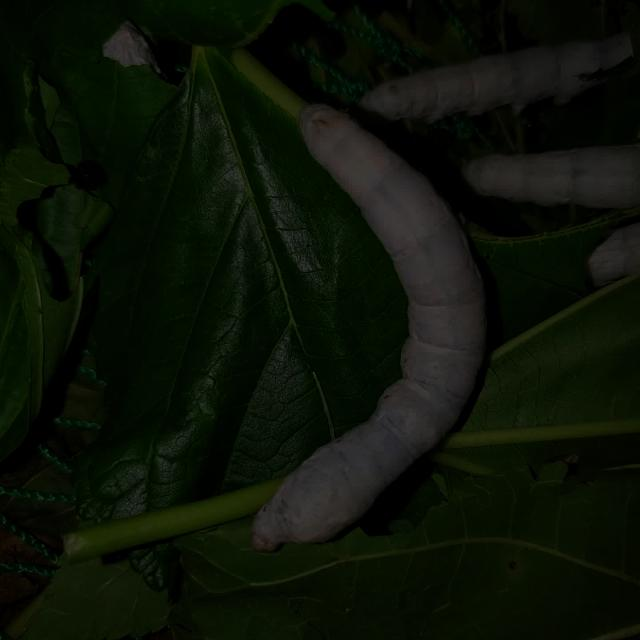Healthy: (245, 94, 492, 556)
